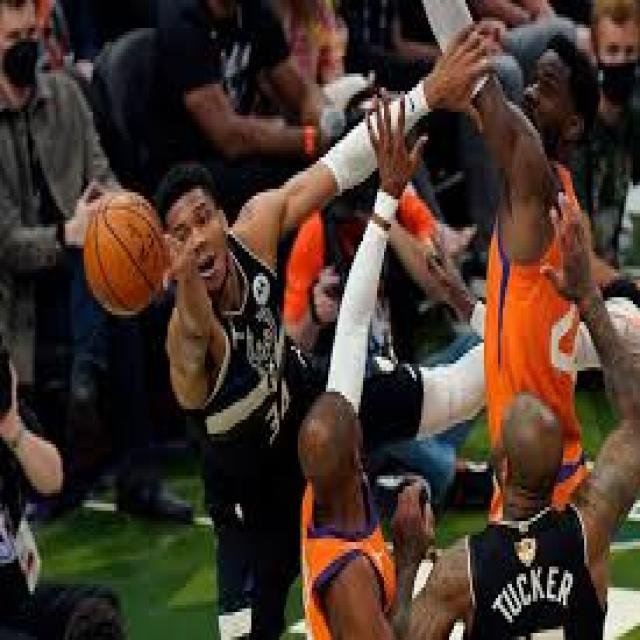rim: (86, 196, 168, 311)
